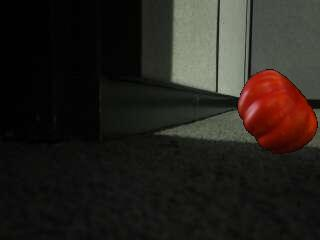Pumpkin: (236, 65, 320, 153)
